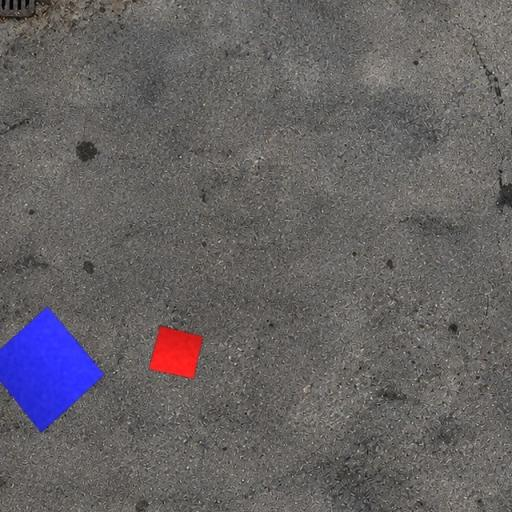BLUE_SQUARE: (0, 306, 106, 434)
RED_SQUARE: (148, 325, 204, 379)
